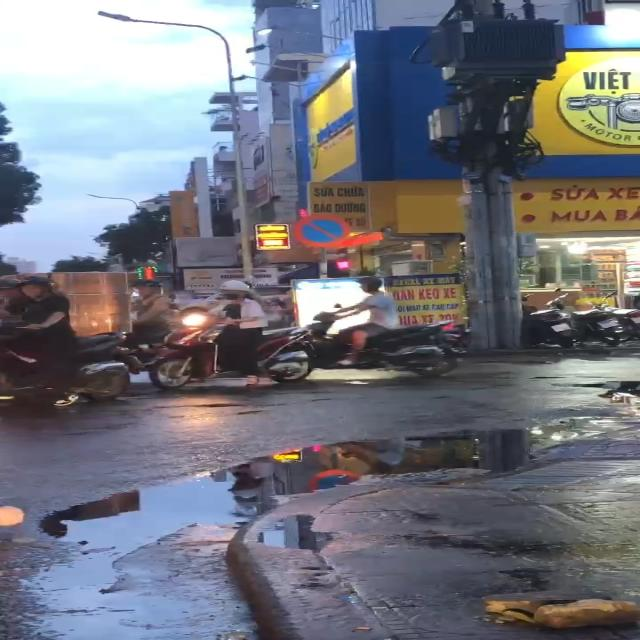Bien bao cam do xe: (287, 212, 354, 248)
